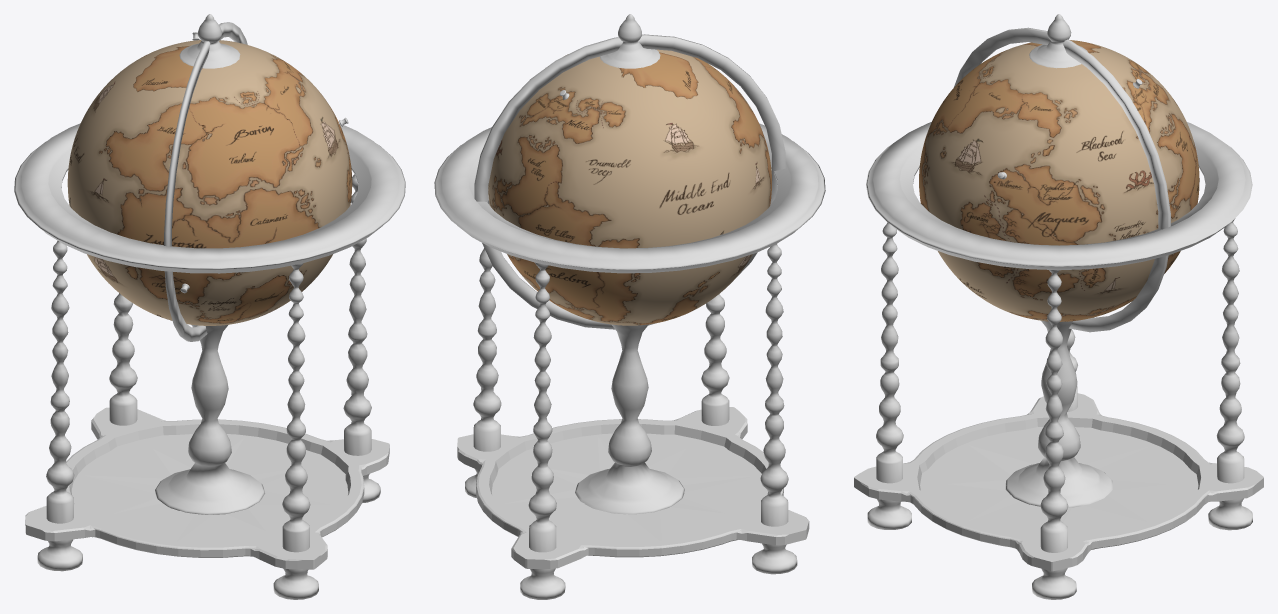
Rendered from SM_Globe 1.fbx.
The picture shows the model from 3 angles, left to right: view 1: azimuth 30°, elevation 25°; view 2: azimuth 150°, elevation 25°; view 3: azimuth 270°, elevation 25°; orthographic projection.
Visible parts, largest first — view 1: Stecknadel.006, Sphere; view 2: Stecknadel.006, Sphere; view 3: Stecknadel.006, Sphere.
Boxes of the visible parts, box(x1,y1,x2,y2) form: Stecknadel.006: box(14, 14, 405, 599); Sphere: box(67, 40, 352, 325); Stecknadel.006: box(434, 14, 825, 599); Sphere: box(488, 49, 771, 325); Stecknadel.006: box(854, 14, 1263, 599); Sphere: box(919, 40, 1199, 321).
Size of the model in its own units: 266 by 367 by 269.
Materials: 1 (1 with a texture image).
